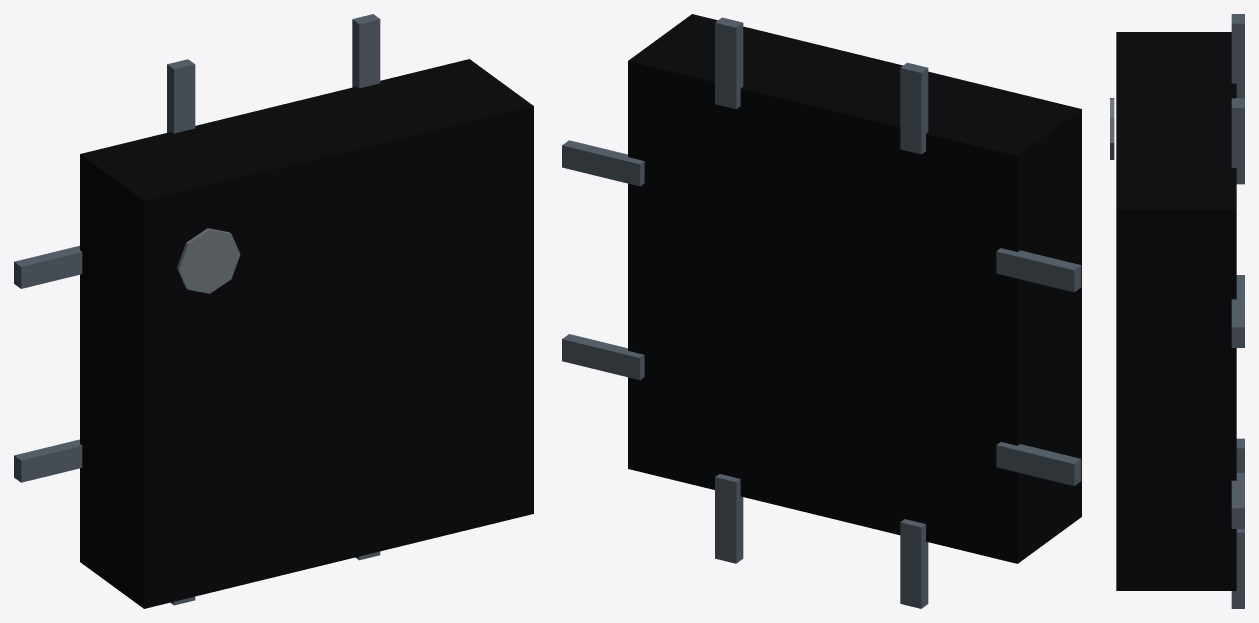
The picture shows the model from 3 angles, left to right: view 1: azimuth 30°, elevation 25°; view 2: azimuth 150°, elevation 25°; view 3: azimuth 270°, elevation 25°; orthographic projection. The views are drawn at different scales.
Visible parts, largest first — view 1: EPOXY, SOLDER, SILK; view 2: EPOXY, SOLDER; view 3: EPOXY, SOLDER, SILK.
Part boxes in pixels (x1,y1,x2,y2): EPOXY: [80, 59, 533, 608]; SOLDER: [14, 14, 380, 605]; SILK: [177, 228, 240, 293]; EPOXY: [628, 14, 1081, 563]; SOLDER: [562, 17, 1081, 608]; EPOXY: [1116, 32, 1236, 590]; SOLDER: [1231, 14, 1244, 608]; SILK: [1110, 98, 1114, 159].
Size of the model in its own units: 0.0092 by 0.0092 by 0.00224.
